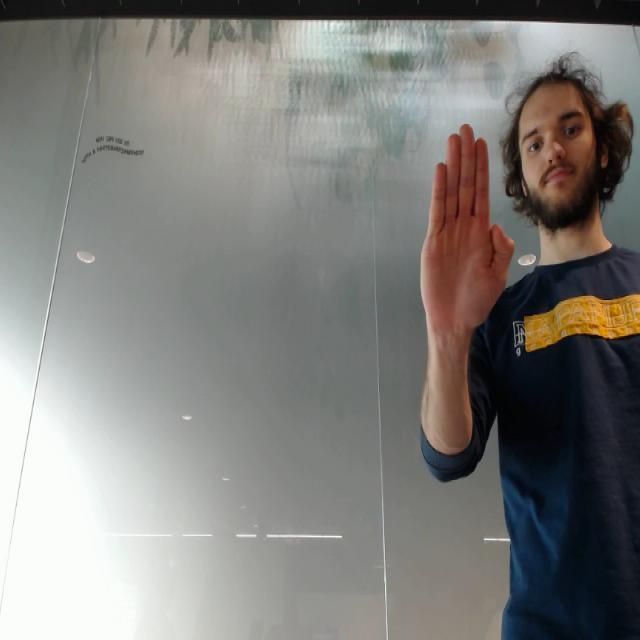backward: (413, 114, 514, 338)
